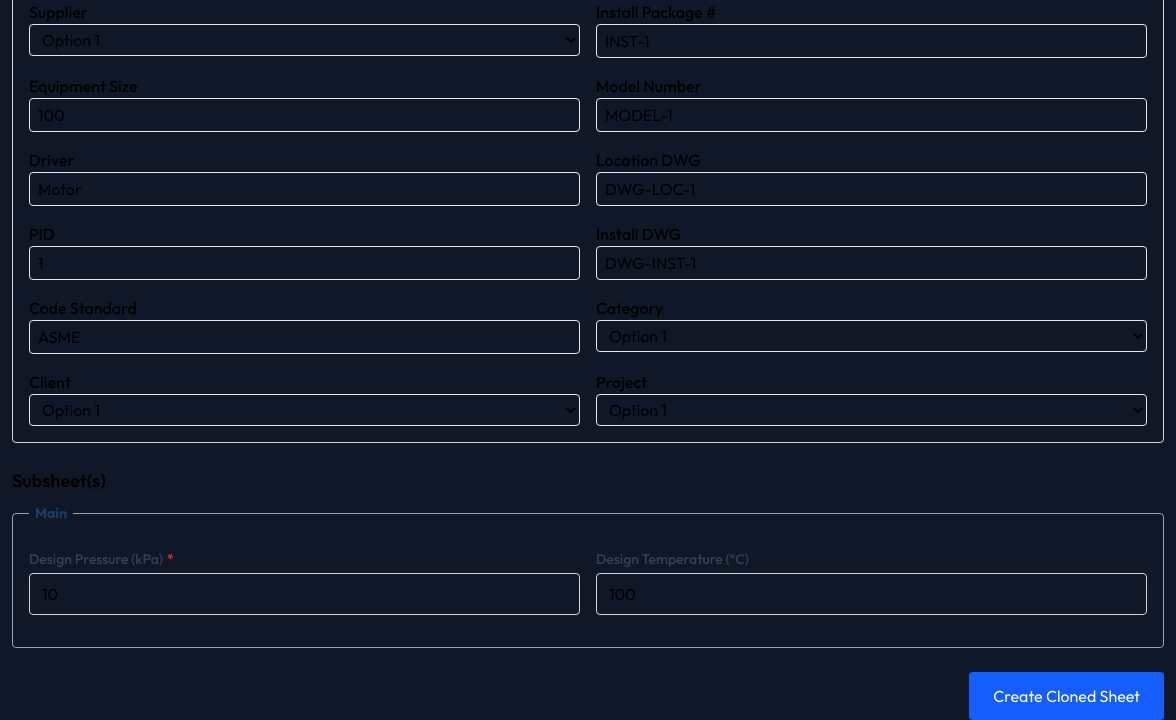
Test: FilledSheetClonerForm › requires equipment tag number and shows error when missing
This screenshot has width=1176, height=720.
(page scrolled)
Click the button "Create Cloned Sheet" at (1067,696), box [969,672,1164,719]
(page scrolled)
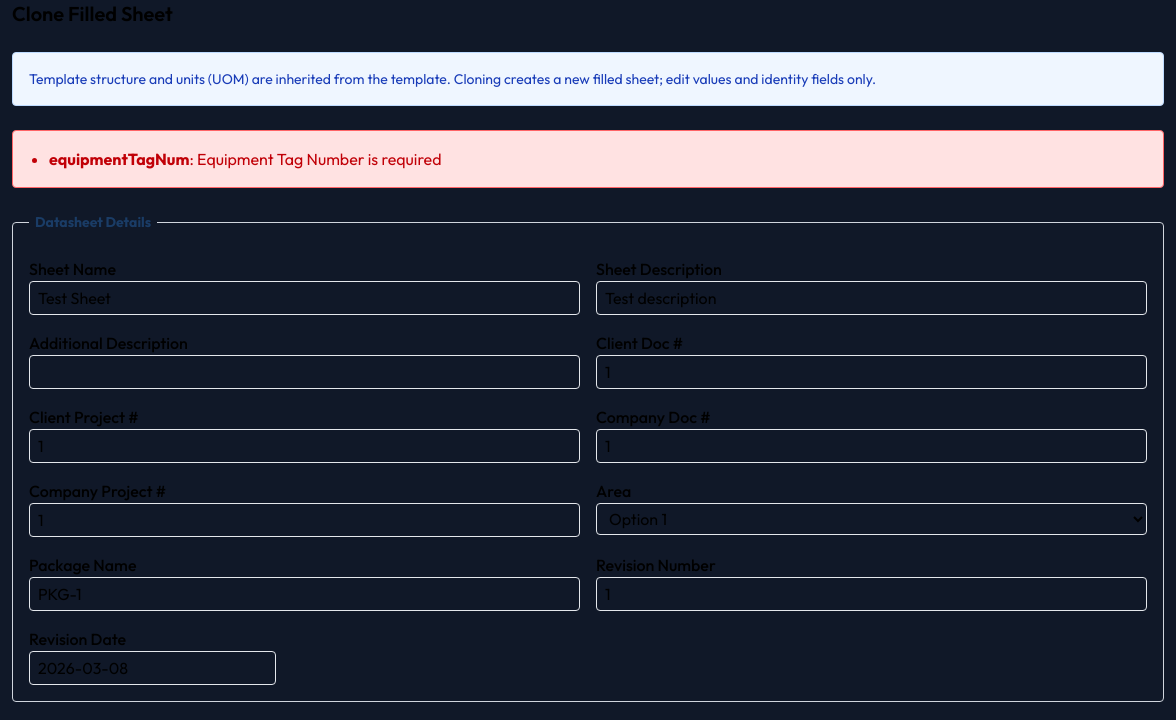
Check: the list item "equipmentTagNum: Equipment Tag Number is required" is shown, box [49,149,442,169]
